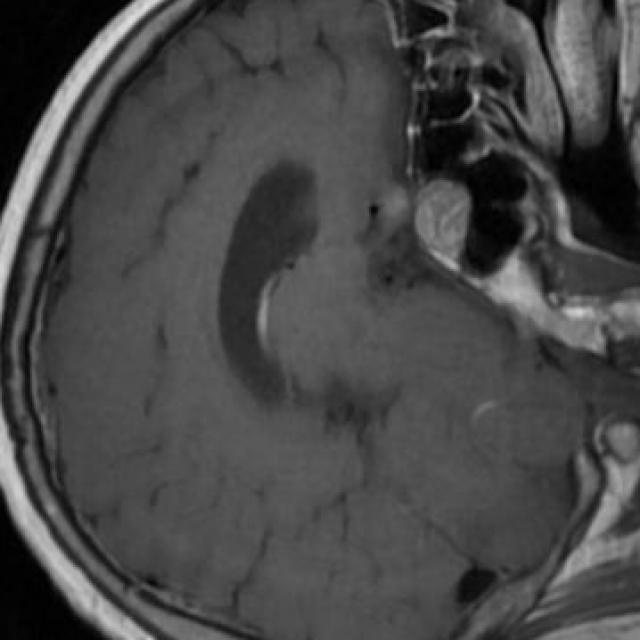pituitary: (414, 180, 472, 260)
